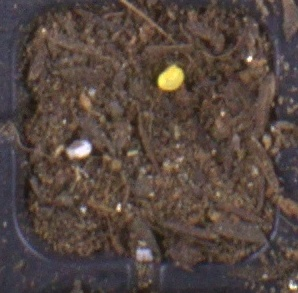chilli seed: (156, 63, 185, 91)
